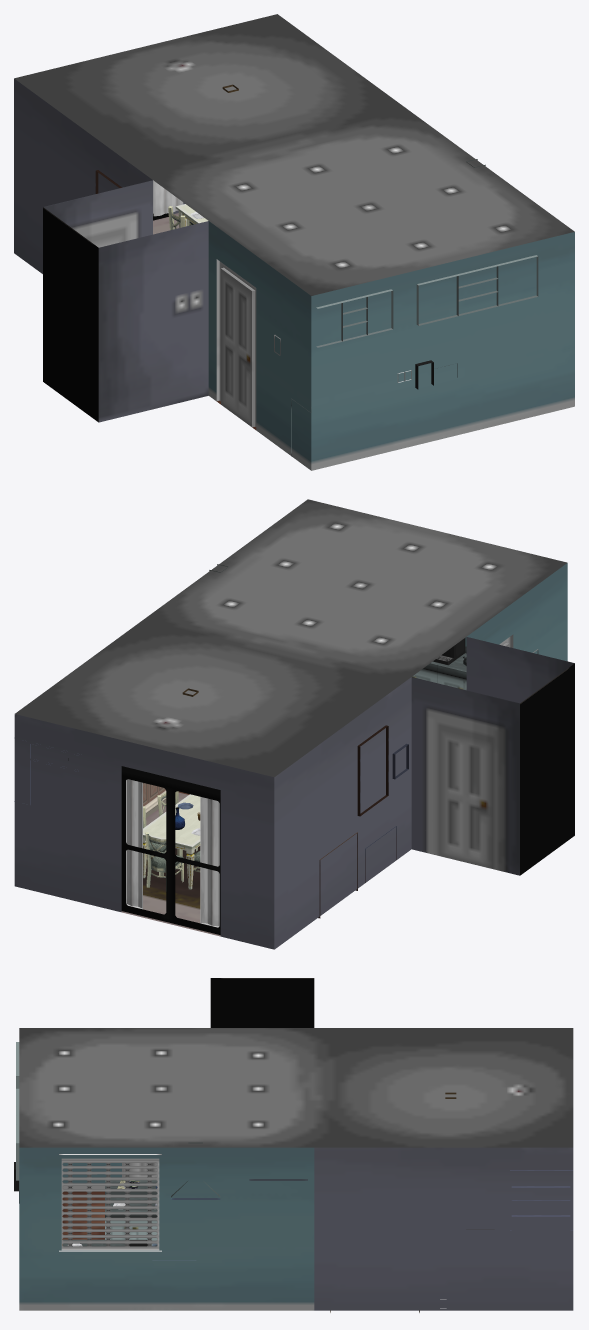
The model's file is Phasmaphobia_Semi.fbx.
3 views of the same model, one above another, from view 1: azimuth 30°, elevation 25°; view 2: azimuth 150°, elevation 25°; view 3: azimuth 270°, elevation 25° (orthographic). The views are drawn at different scales.
Visible parts, largest first — view 1: Room.001, Room.005, Room.002, Furniture.007, Furniture.021; view 2: Room.001, Room.005, Room.004, Furniture.021, Items1.002, Room, Furniture.045, Furniture.006, Furniture.024, Furniture.056; view 3: Room.003, Room.001, Items1.043, Room.005, Furniture.001, Room.
Boxes of the visible parts, left/top/right/bottom form: Room.001: left=14, top=14, right=574, bottom=295; Room.005: left=14, top=78, right=311, bottom=470; Room.002: left=311, top=232, right=574, bottom=470; Furniture.007: left=416, top=255, right=538, bottom=325; Furniture.021: left=153, top=180, right=183, bottom=216; Room.001: left=15, top=499, right=567, bottom=777; Room.005: left=274, top=563, right=574, bottom=949; Room.004: left=14, top=714, right=274, bottom=949; Furniture.021: left=126, top=779, right=219, bottom=927; Items1.002: left=121, top=766, right=220, bottom=934; Room: left=121, top=791, right=220, bottom=936; Furniture.045: left=143, top=794, right=200, bottom=889; Furniture.006: left=412, top=646, right=466, bottom=690; Furniture.024: left=357, top=725, right=388, bottom=816; Furniture.056: left=145, top=832, right=183, bottom=891; Room.003: left=19, top=1147, right=573, bottom=1310; Room.001: left=19, top=1028, right=573, bottom=1147; Items1.043: left=59, top=1154, right=161, bottom=1251; Room.005: left=62, top=978, right=314, bottom=1188; Furniture.001: left=105, top=1180, right=157, bottom=1245; Room: left=62, top=1191, right=104, bottom=1239.
Size of the model in its own units: 4.92 by 2.27 by 6.79.
7 materials, 7 textured.
